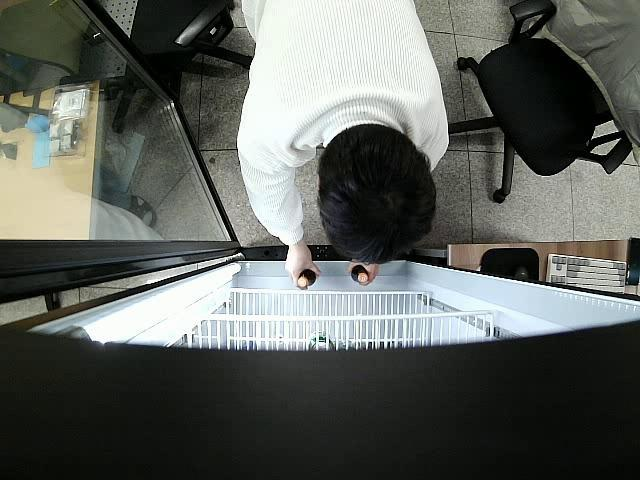17_vita500: (296, 269, 318, 290), (352, 264, 371, 286)
